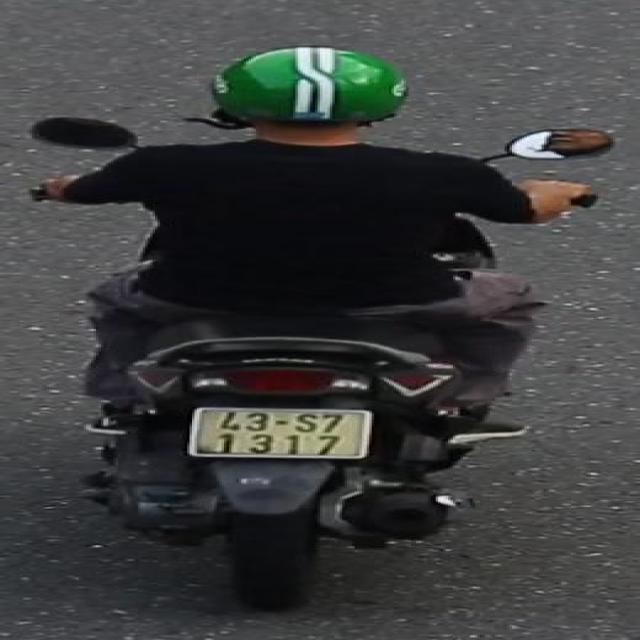LP: (174, 397, 382, 475)
helmet: (194, 37, 416, 145)
